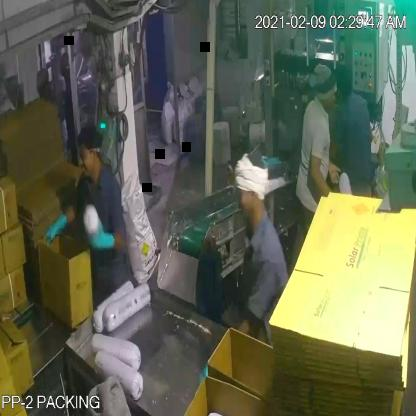glove: (77, 210, 118, 258), (44, 212, 73, 248)
no_glove: (307, 149, 348, 201)
